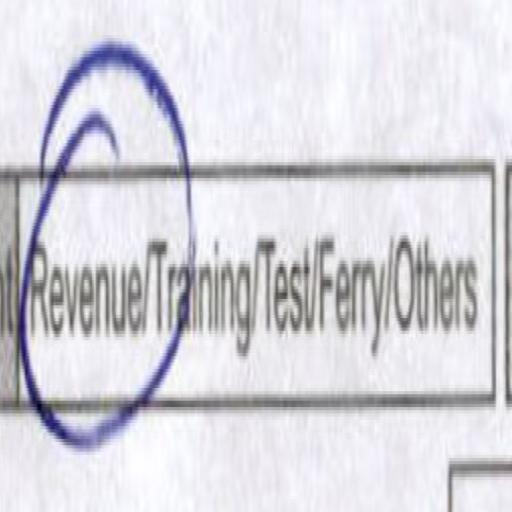check: (22, 65, 147, 471)
